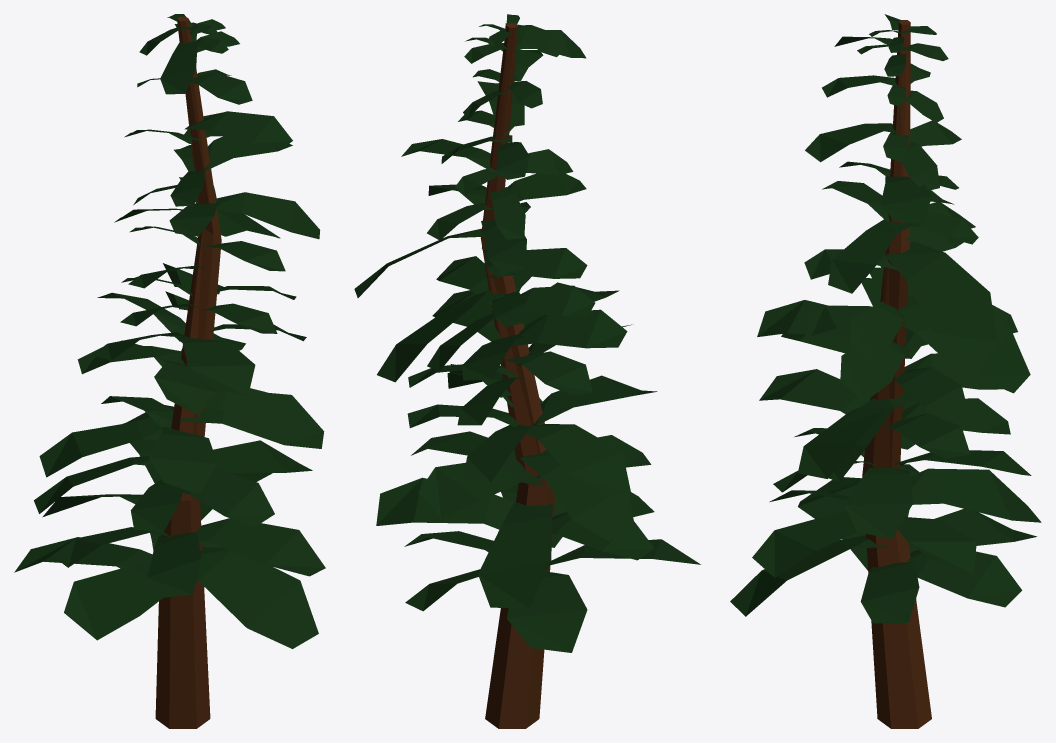
Rendered from forest-conifer-tall.glb.
3 renders of one model, left to right at view 1: azimuth 30°, elevation 25°; view 2: azimuth 150°, elevation 25°; view 3: azimuth 270°, elevation 25°, orthographic.
Parts seen in each view (by area): view 1: Cylinder, Plane.003, Plane.002, Plane.016, Plane.008, Plane.017, Plane.031, Plane.018, Plane.005, Plane.014, Plane.042, Plane.050 (+21 smaller); view 2: Cylinder, Plane.006, Plane.001, Plane.018, Plane.013, Plane.007, Plane.012, Plane.034, Plane.033, Plane.021, Plane.009, Plane.015 (+28 smaller); view 3: Cylinder, Plane.035, Plane.006, Plane.011, Plane.033, Plane.004, Plane.008, Plane, Plane.017, Plane.007, Plane.042, Plane.016 (+28 smaller).
Boxes of the visible parts, x1,y1,x2,y2 form: Cylinder: (155, 16, 221, 728); Plane.003: (196, 547, 318, 648); Plane.002: (64, 565, 162, 640); Plane.016: (180, 391, 324, 448); Plane.008: (196, 518, 325, 576); Plane.017: (148, 427, 217, 494); Plane.031: (174, 336, 255, 396); Plane.018: (39, 421, 171, 477); Plane.005: (147, 532, 201, 598); Plane.014: (183, 468, 274, 526); Plane.042: (216, 192, 320, 239); Plane.050: (184, 111, 292, 148); Cylinder: (480, 23, 555, 728); Plane.006: (478, 502, 552, 608); Plane.001: (507, 571, 587, 652); Plane.018: (526, 424, 630, 495); Plane.013: (520, 450, 635, 540); Plane.007: (376, 477, 515, 529); Plane.012: (418, 460, 544, 517); Plane.034: (511, 309, 627, 348); Plane.033: (377, 290, 505, 382); Plane.021: (505, 351, 592, 395); Plane.009: (551, 512, 654, 560); Plane.015: (464, 425, 536, 482); Cylinder: (862, 20, 931, 728); Plane.035: (885, 241, 997, 356); Plane.006: (911, 468, 1041, 522); Plane.011: (844, 467, 912, 539); Plane.033: (898, 295, 1030, 393); Plane.004: (907, 550, 1022, 607); Plane.008: (752, 512, 856, 577); Plane: (860, 562, 919, 623); Plane.017: (759, 369, 870, 414); Plane.007: (898, 517, 976, 574); Plane.042: (828, 219, 909, 293); Plane.016: (798, 405, 905, 478).
Size of the model in its own units: 1.78 by 4.25 by 1.72.
